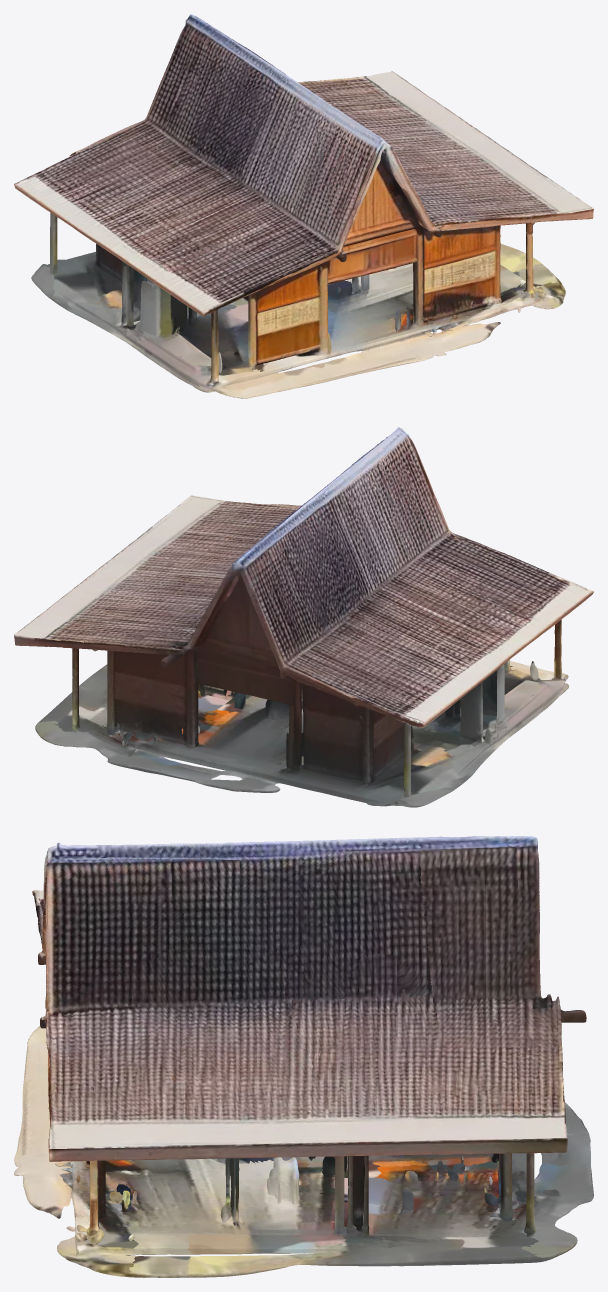
The model's file is rumah-osing.glb.
3 views of the same model, one above another, from view 1: azimuth 30°, elevation 25°; view 2: azimuth 150°, elevation 25°; view 3: azimuth 270°, elevation 25° (orthographic). The views are drawn at different scales.
Visible parts, largest first — view 1: Object_4; view 2: Object_4; view 3: Object_4.
Boxes of the visible parts, box(x1,y1,x2,y2) form: Object_4: box(14, 14, 593, 398); Object_4: box(14, 427, 593, 807); Object_4: box(14, 836, 593, 1277).
Bounding box in the file's own units: 1 × 0.5172 × 0.9055.
Materials: 1 (1 with a texture image).
